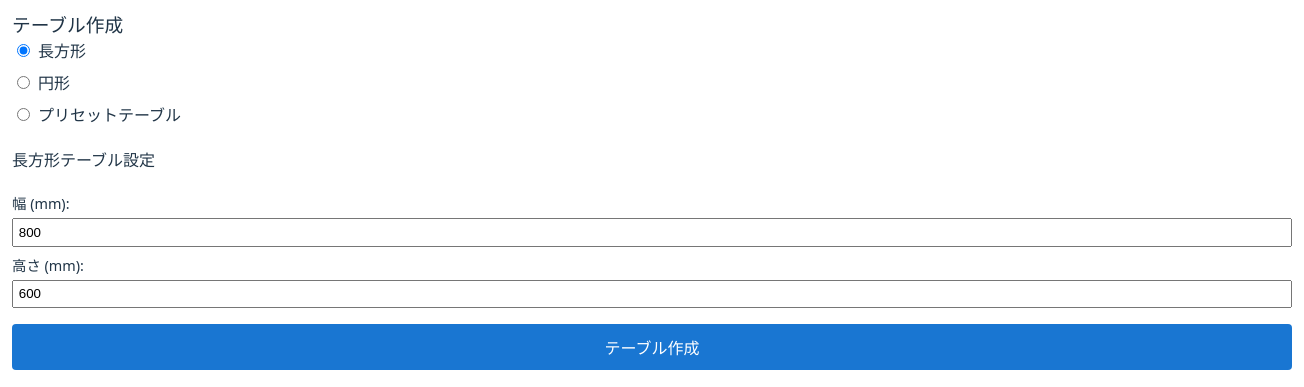
Test: TableToolbar › 円形テーブルに切り替えると設定が変わる
Click the radio button showing "circle" at (24, 82), box [17, 76, 30, 89]
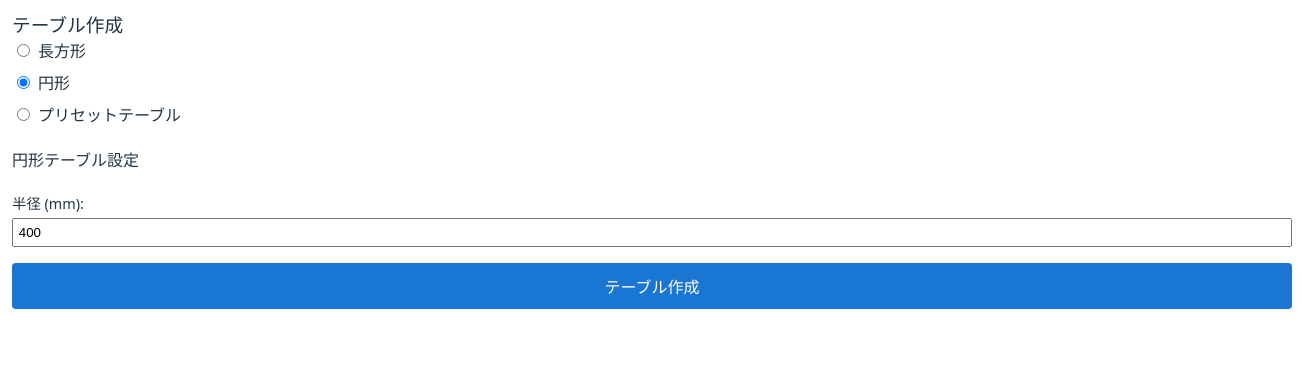
Now the heading "円形テーブル設定" is shown, box [12, 149, 139, 171]
Now the number field showing "400" is shown, box [12, 218, 1292, 247]
